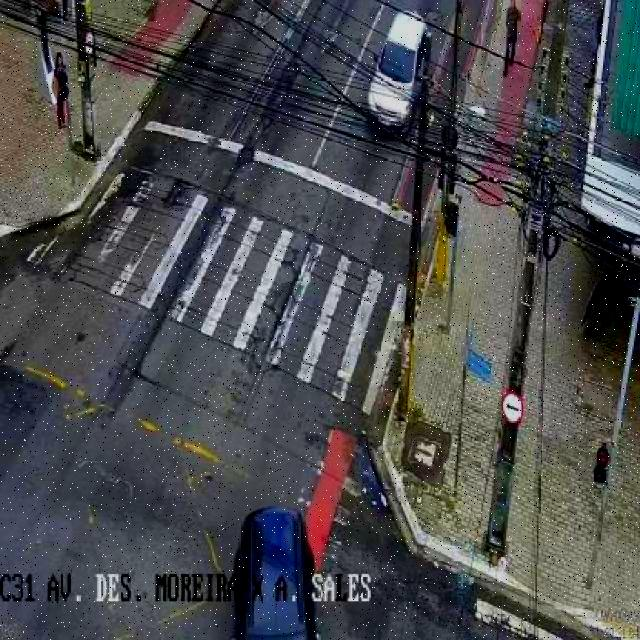Car: (225, 502, 317, 640), (362, 14, 432, 131)
